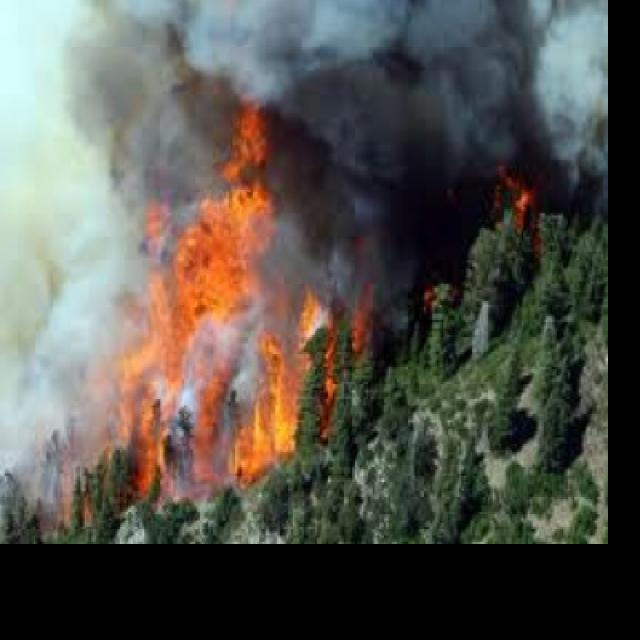Fire: (91, 89, 386, 522), (468, 135, 550, 268)
Smoke: (0, 0, 640, 539)
